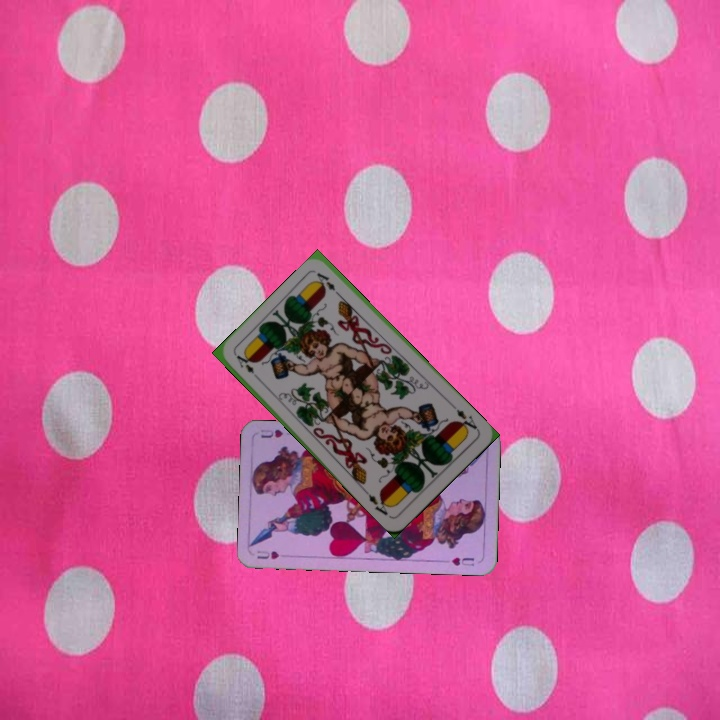EA: (448, 401, 481, 435), (232, 351, 263, 383)
HU: (253, 547, 292, 562)
